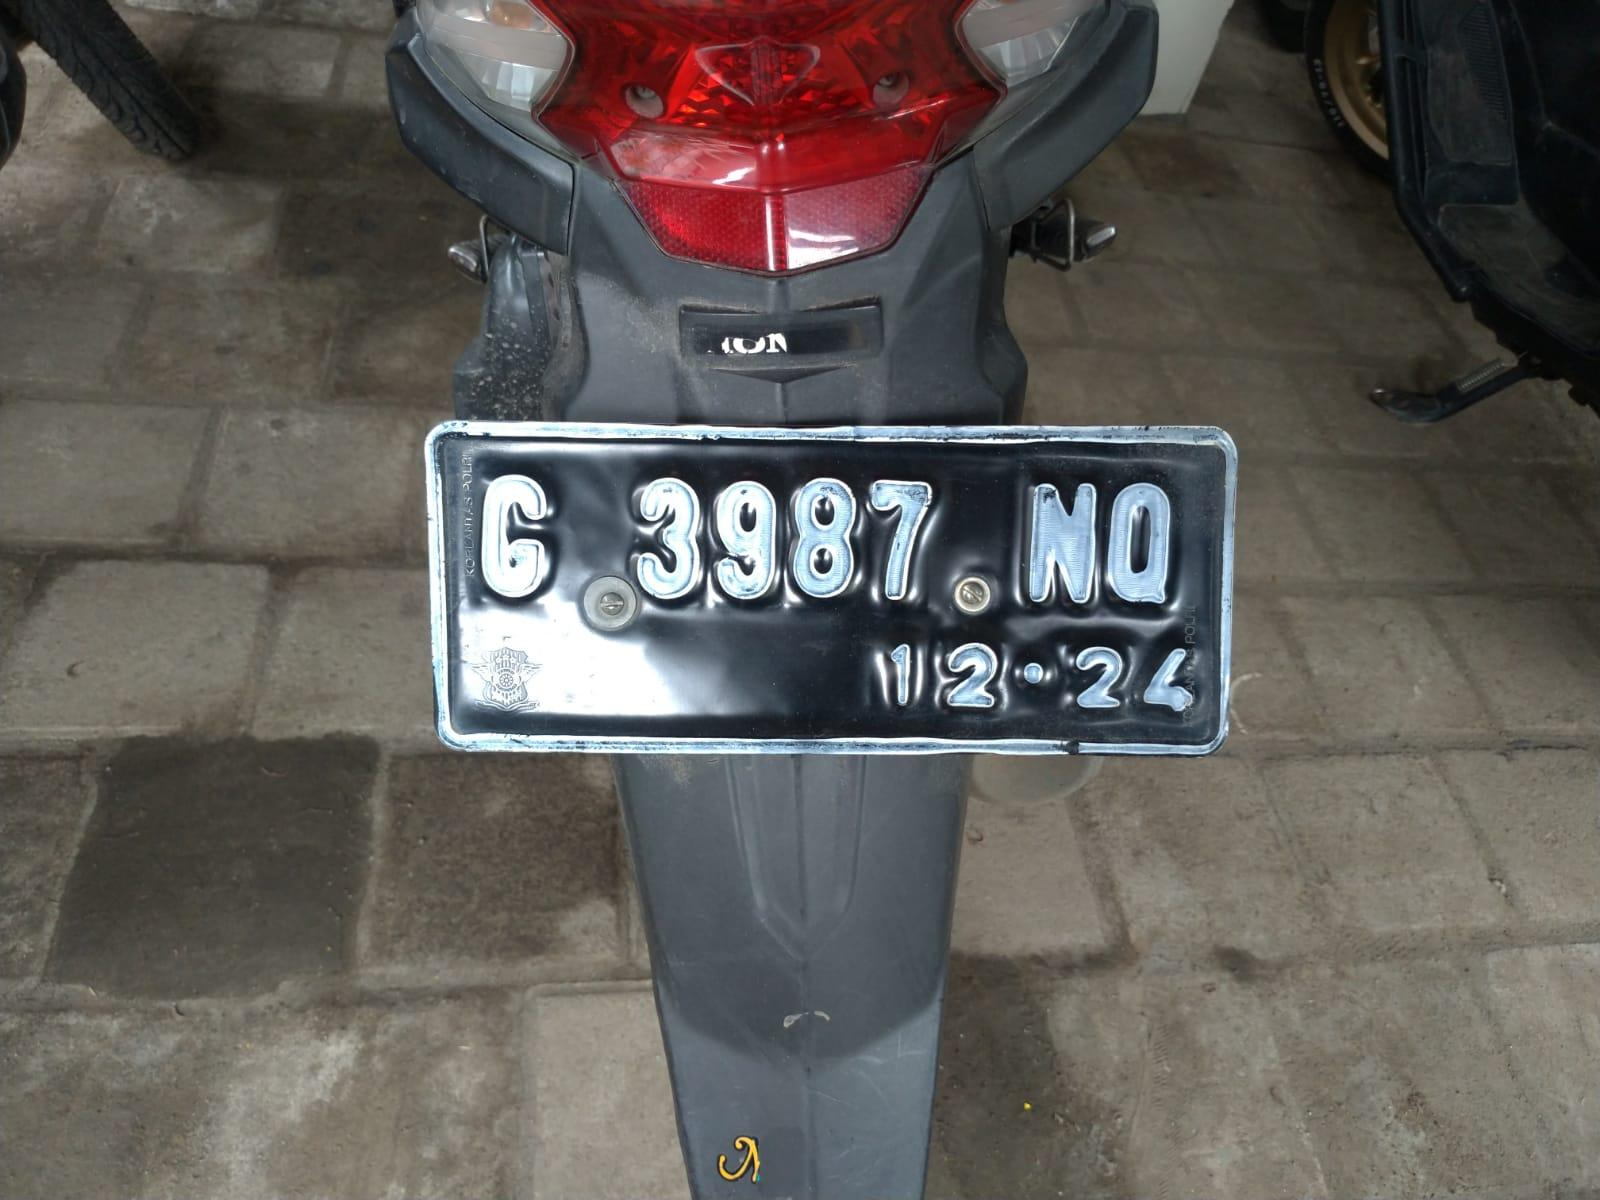plat: (425, 422, 1237, 756)
